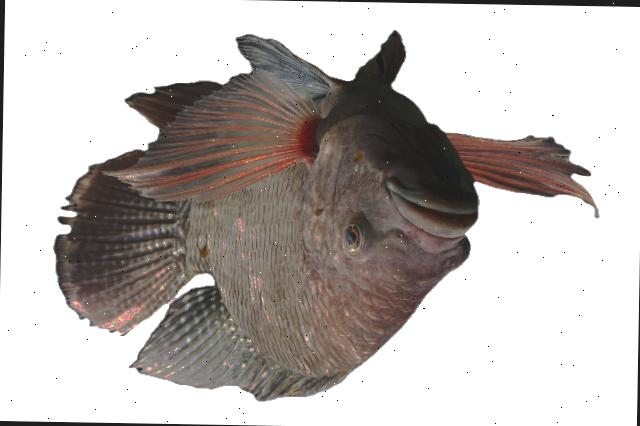Parasitic Disease: (54, 31, 593, 399)
